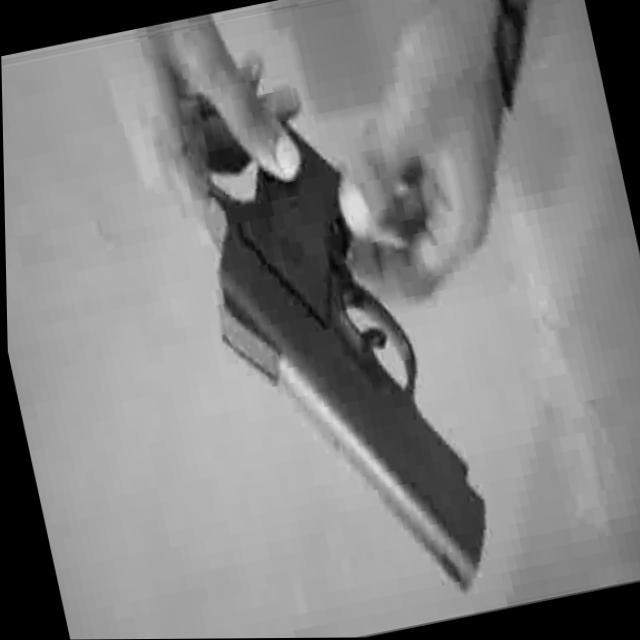weapon: (165, 40, 502, 628)
